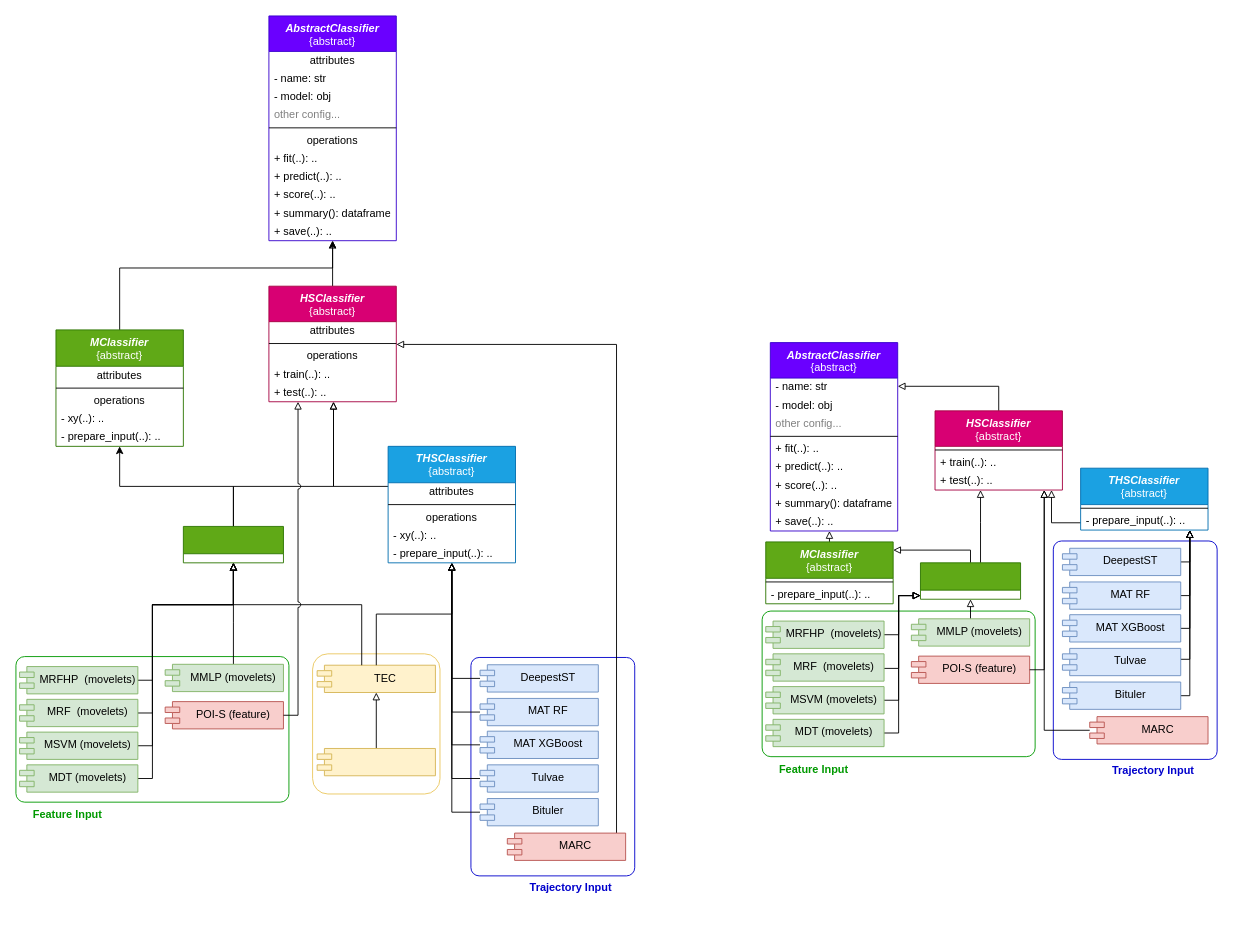
The diagram is 1233 pixels wide and 925 high, and some of its shapes have lost their labels. The shapes that lost their labels are listed below. From the top down, each one's box as (x1, y1, x2, y2) in pixels, then its label:
(182, 526, 283, 563): MHSClassifier
(920, 562, 1021, 599): MHSClassifier {abstract}
(312, 653, 440, 794): Mixed Input / Ensemble
(316, 748, 435, 776): MSTEC
